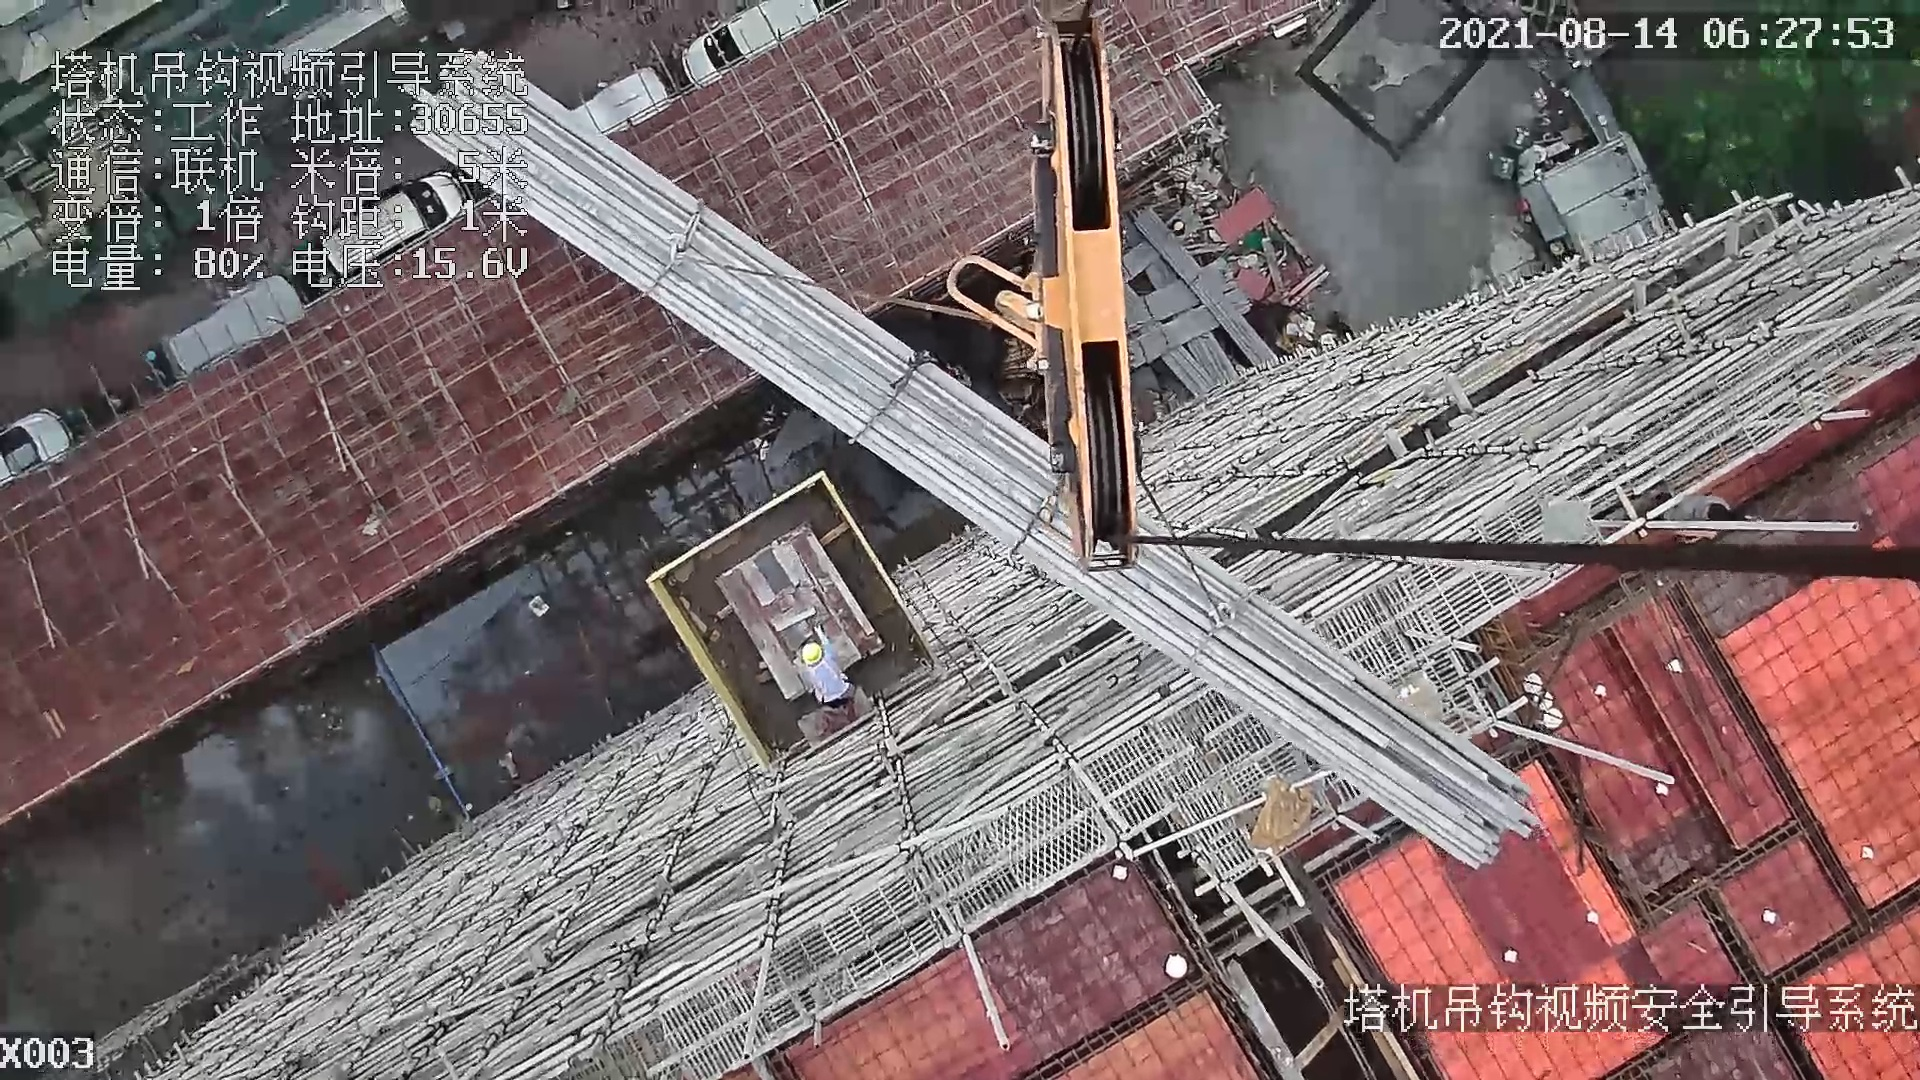helmet: (798, 627, 837, 669)
hook: (1028, 22, 1147, 574)
person: (795, 634, 877, 718)
